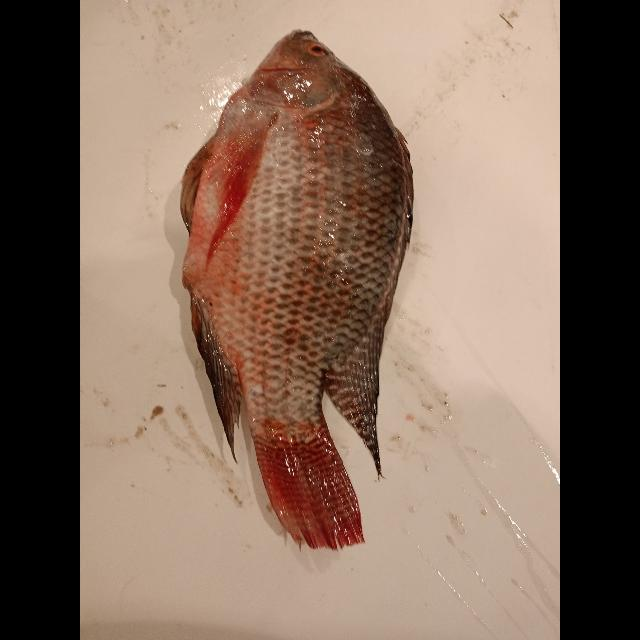Tilapia: (183, 26, 411, 552)
